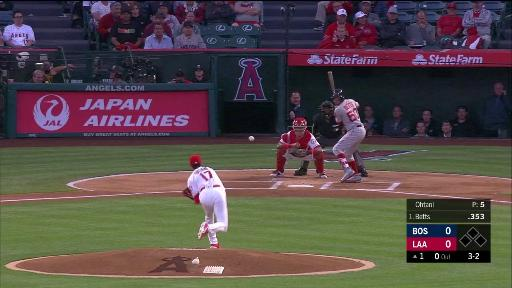pitcher: (184, 154, 231, 250)
